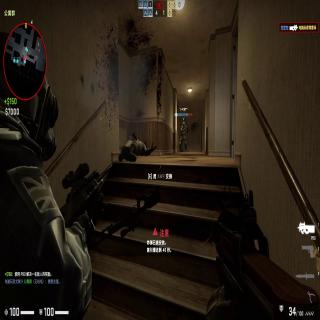CT-Body: (179, 122, 189, 152)
CT-Head: (182, 122, 185, 126)
